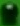black: (0, 0, 20, 26)
